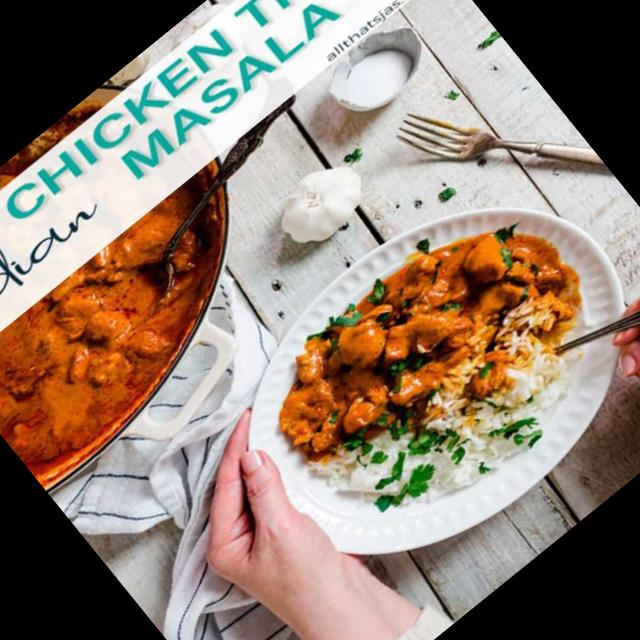chicken: (248, 180, 582, 490), (0, 216, 233, 463)
